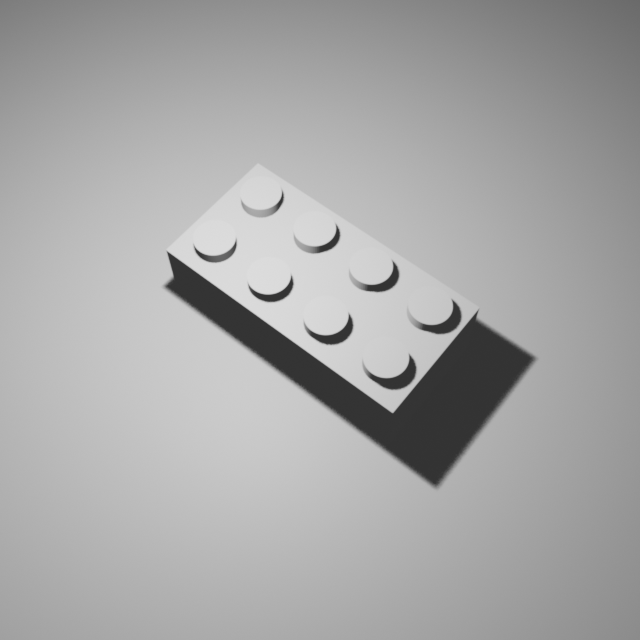lego_2x4: (164, 155, 482, 447)
